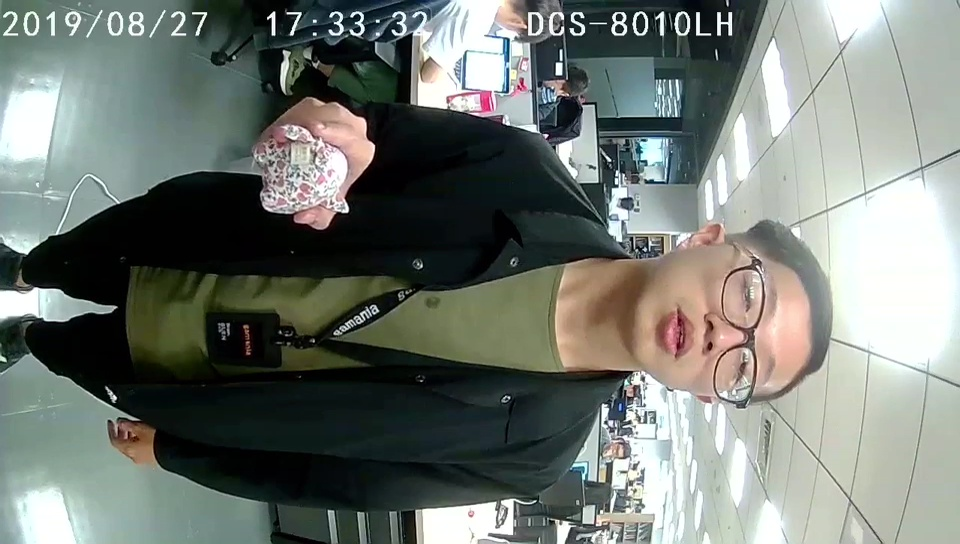pig: (253, 121, 352, 217)
